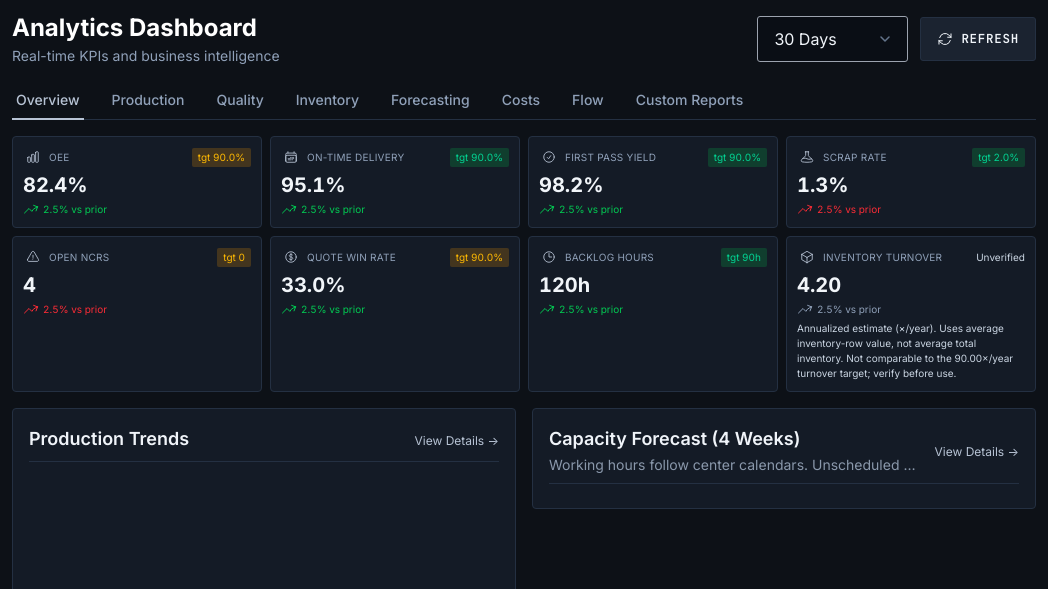
Scenario: a failed REFRESH co-renders the banner with the stale-but-present content
The width and height of the screenshot is (1048, 589).
Expected: the text "OEE" is shown, [49,147,69,167]
Expected: the text "82.4%" is shown, [23,173,88,197]
// Refresh fails: the banner appears AND the stale KPI content is still there.
Click the button "Refresh".
click(978, 39)  # box [920,17,1036,61]
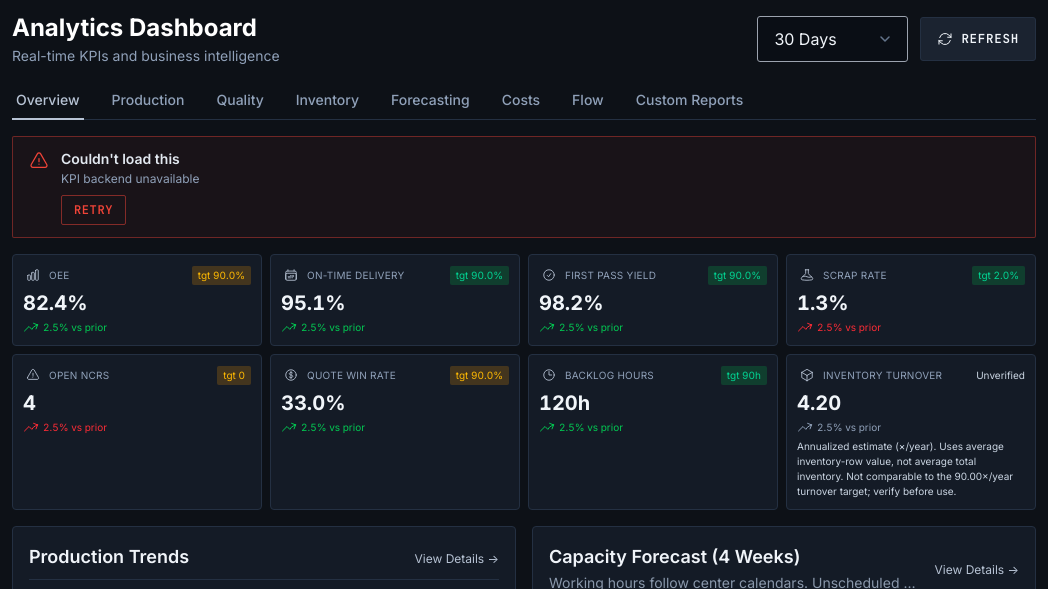
Expected: the text "OEE" is shown, [49,265,69,285]
Expected: the message with test id "error-state" shows "KPI backend unavailable", [61,171,200,186]
